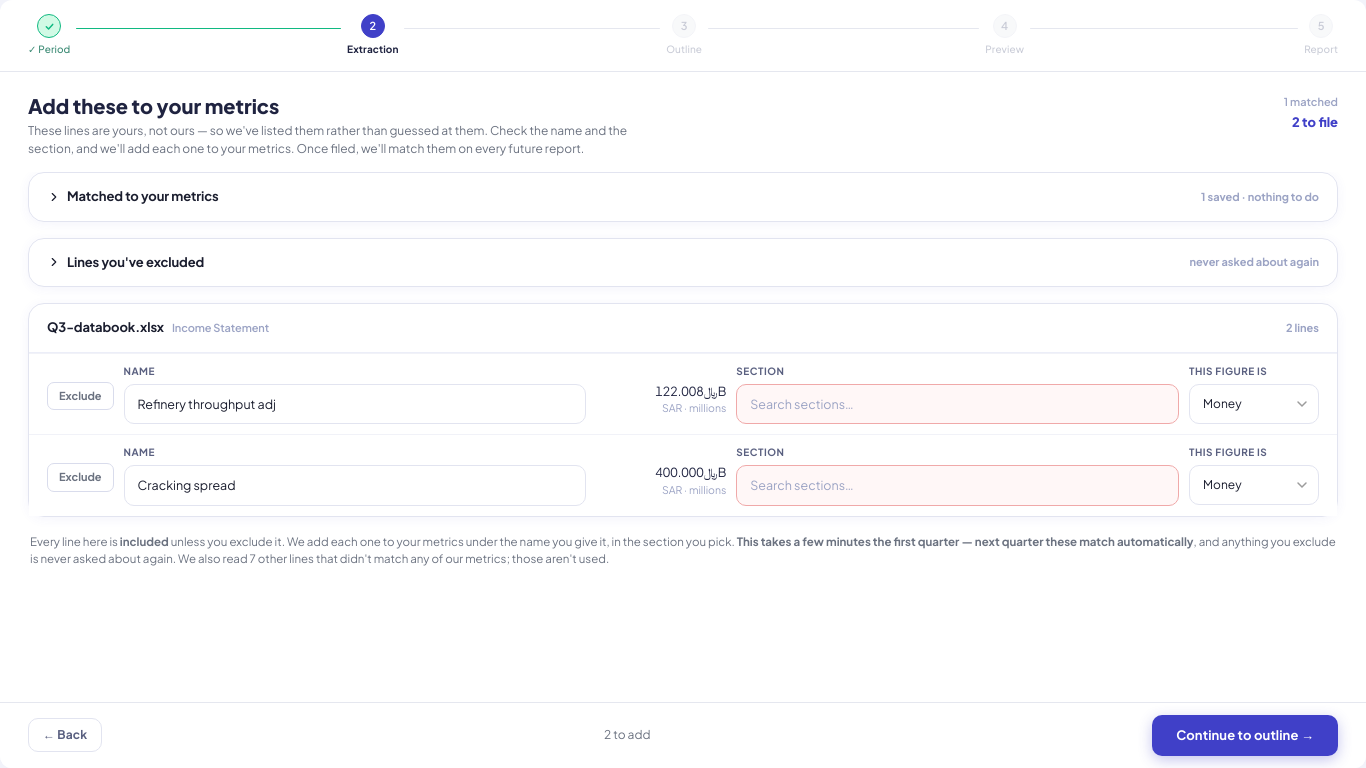
Scenario: quarterly extraction review › blocks a row with no section rather than filing it somewhere
Expected: the heading "Add these to your metrics" is shown, [28,93,279,118]
Click the button "Continue to outline →" at (1245, 735), box [1152,714,1338,756]
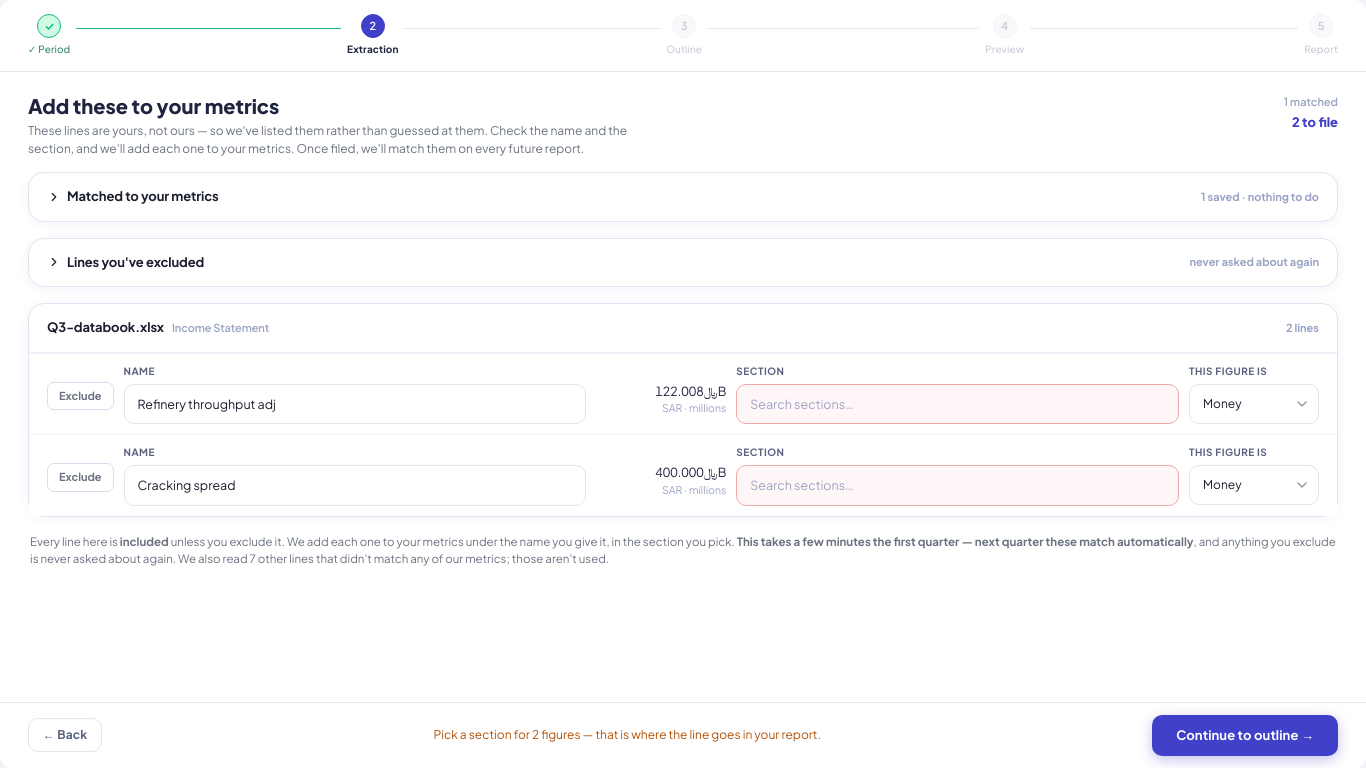
Expected: the text "Pick a section for 2 figures" is shown, [434,727,821,742]
